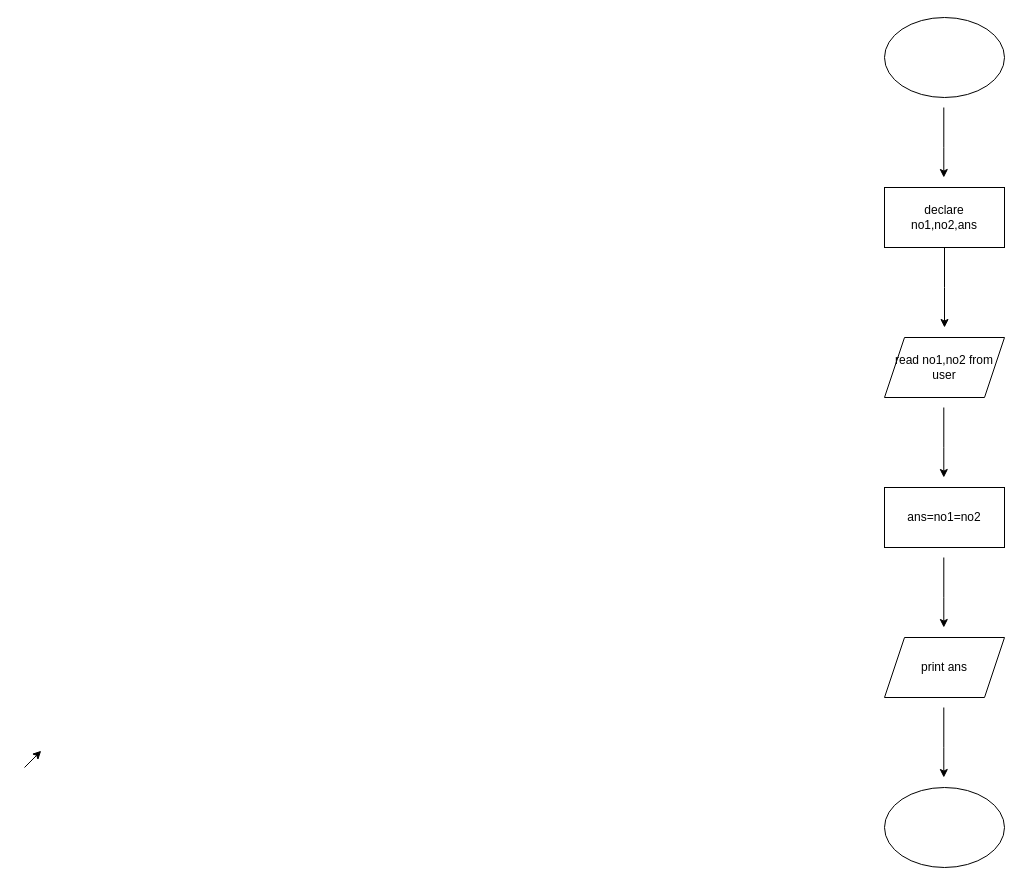
Image size: 1022x885. Some labels were removed from this diagram. Here are the shapes that lost their labels. From the top down, the centre of each, then its label:
the point at 944,57: start
the point at 944,827: stop
